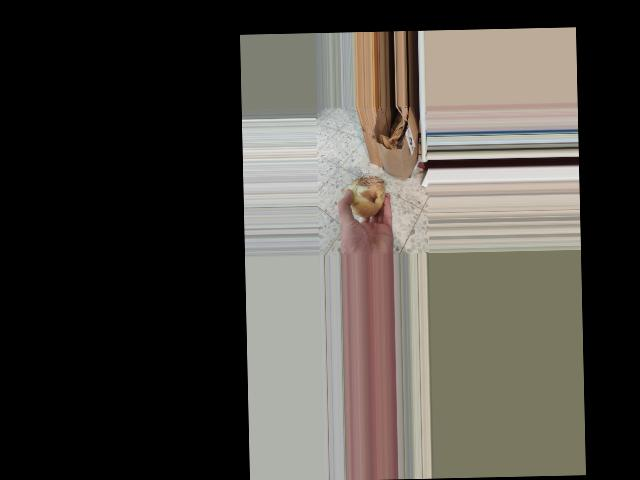onion: (339, 174, 386, 222)
